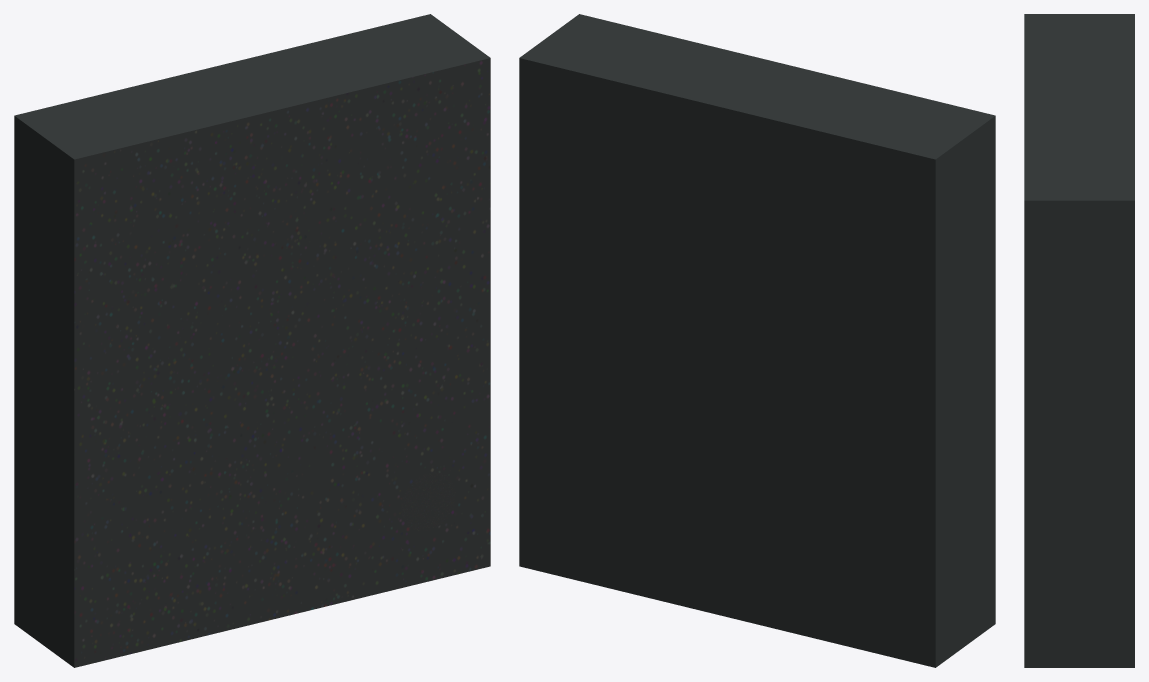
File: monitor_model.obj
3 views of the same model, side by side, from view 1: azimuth 30°, elevation 25°; view 2: azimuth 150°, elevation 25°; view 3: azimuth 270°, elevation 25° (orthographic). The views are drawn at different scales.
Parts seen in each view (by area): view 1: monitor_body, button; view 2: monitor_body; view 3: monitor_body.
Boxes of the visible parts, x1,y1,x2,y2 form: monitor_body: (14, 14, 490, 667); button: (400, 472, 456, 531); monitor_body: (519, 14, 995, 667); monitor_body: (1024, 14, 1134, 667).
Bounding box in the file's own units: 1.2 × 1.4 × 0.301.
